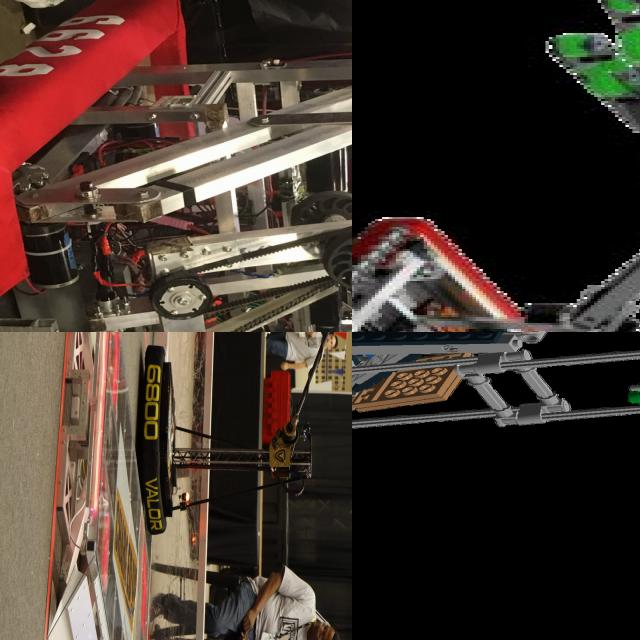FRC-Robots: (0, 0, 352, 332), (352, 0, 640, 332), (125, 332, 352, 542), (352, 332, 640, 488)
